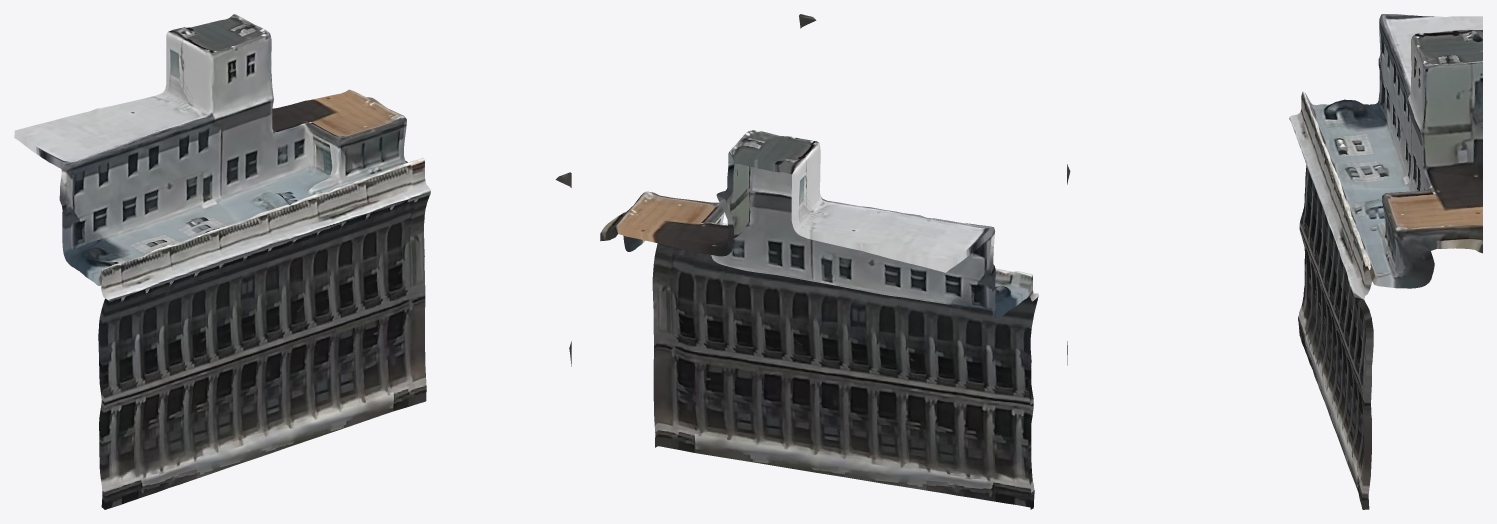
The model's file is z20-167769-405235-h1-yup-uvflip-v3-world.glb.
The picture shows the model from 3 angles, left to right: view 1: azimuth 30°, elevation 25°; view 2: azimuth 150°, elevation 25°; view 3: azimuth 270°, elevation 25°; orthographic projection. The views are drawn at different scales.
Bounding box in the file's own units: 30.2 × 30.96 × 30.32.
Materials: 1 (1 with a texture image).
